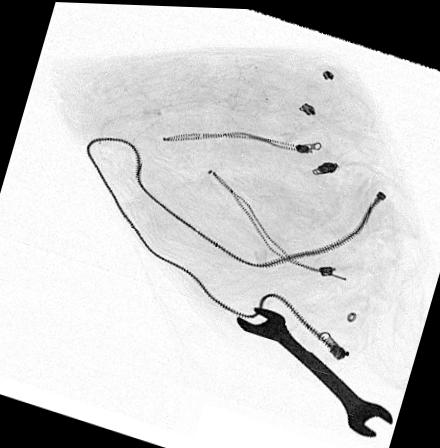Wrench: (233, 305, 394, 434)
